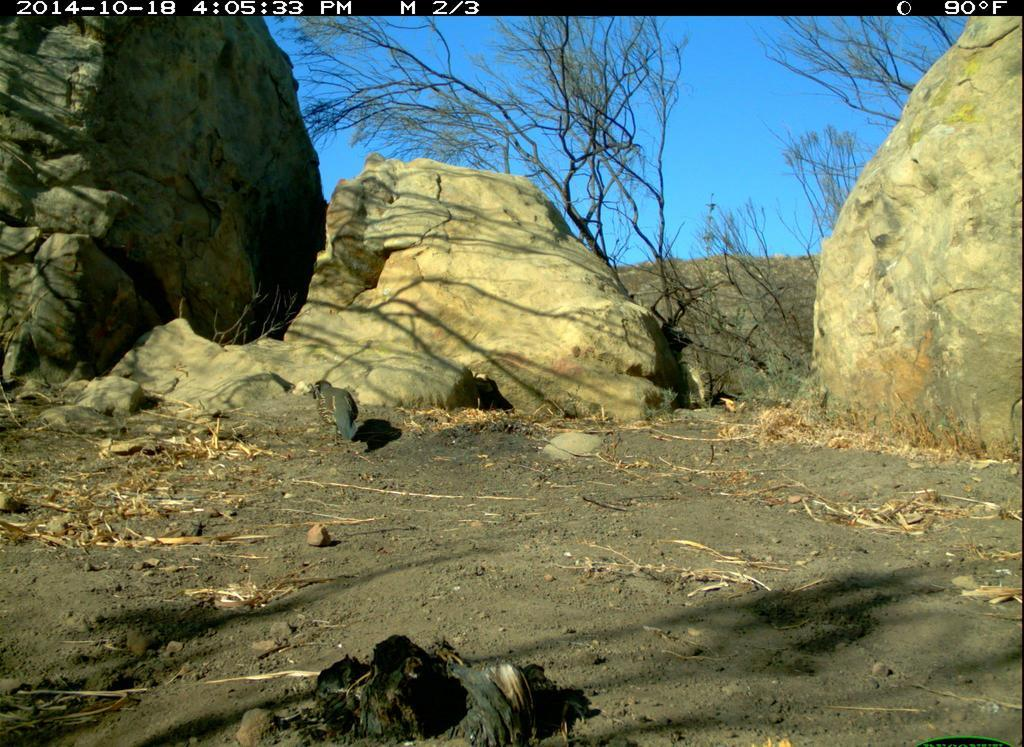bird: (308, 377, 364, 449)
